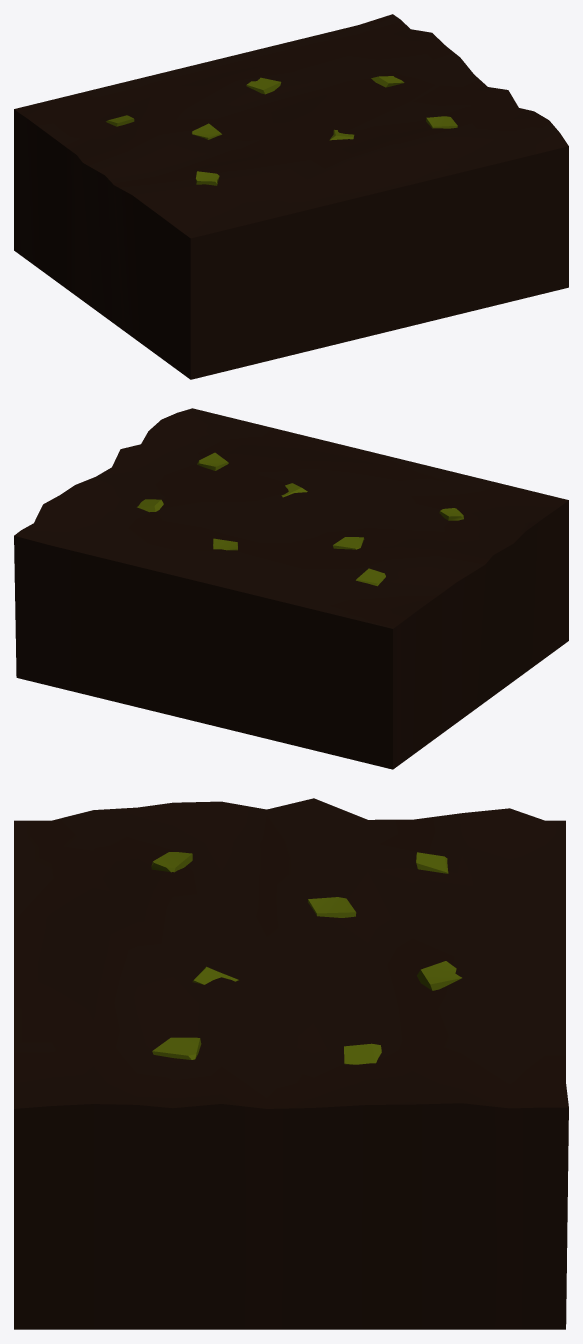
File: Sol_3.fbx
3 renders of one model, top to bottom at view 1: azimuth 30°, elevation 25°; view 2: azimuth 150°, elevation 25°; view 3: azimuth 270°, elevation 25°, orthographic. The views are drawn at different scales.
Visible parts, largest first — view 1: sol3; view 2: sol3; view 3: sol3.
Boxes of the visible parts, x1,y1,x2,y2 form: sol3: (14, 14, 568, 379); sol3: (14, 408, 568, 769); sol3: (14, 798, 568, 1329).
Size of the model in its own units: 441 by 161 by 342.
